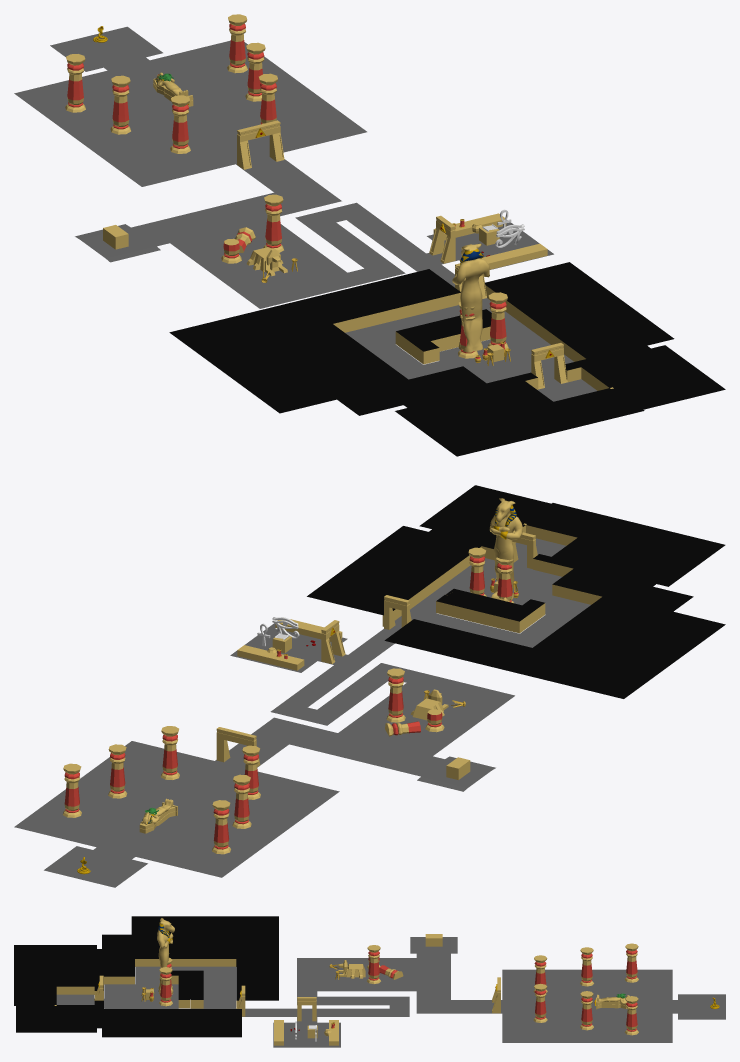
File: Environment_Test2.fbx
3 views of the same model, one above another, from view 1: azimuth 30°, elevation 25°; view 2: azimuth 150°, elevation 25°; view 3: azimuth 270°, elevation 25° (orthographic). The views are drawn at different scales.
Visible parts, largest first — view 1: Plane, Cube.005, Cube.006, sarcofago001.001, WallEntrance.003, WallEntrance, Pillar2.005, Pillar2.012, Pillar2.003, Pillar2.011, Pillar2.002, WallEntrance.002 (+5 smaller); view 2: Plane, Cube.005, Cube.006, sarcofago001.001, Cube.004, Pillar2.002, Pillar2.004, Pillar2.011, Pillar2.012, Pillar2.005, Pillar2.008, WallEntrance.003 (+5 smaller); view 3: Plane, Cube.005, Cube.006, sarcofago001.001, Pillar2.005, Pillar2.011, Pillar2.004, Pillar2, Pillar2.012, Pillar2.008, Pillar2.002, besouro (+6 smaller).
Part boxes in pixels (x1,y1,x2,y2): Plane: (14, 26, 596, 401); Cube.005: (169, 262, 725, 456); Cube.006: (395, 309, 491, 364); sarcofago001.001: (452, 243, 489, 352); WallEntrance.003: (237, 120, 284, 169); WallEntrance: (531, 343, 567, 389); Pillar2.005: (110, 75, 130, 134); Pillar2.012: (65, 54, 85, 112); Pillar2.003: (170, 95, 190, 153); Pillar2.011: (227, 14, 247, 73); Pillar2.002: (263, 194, 283, 252); WallEntrance.002: (429, 215, 455, 263); Plane: (14, 538, 590, 887); Cube.005: (307, 485, 725, 698); Cube.006: (436, 588, 545, 633); sarcofago001.001: (489, 498, 522, 601); Cube.004: (237, 645, 304, 670); Pillar2.002: (386, 668, 405, 722); Pillar2.004: (108, 744, 127, 798); Pillar2.011: (62, 763, 81, 817); Pillar2.012: (212, 800, 230, 854); Pillar2.005: (232, 774, 251, 828); Pillar2.008: (161, 726, 179, 779); WallEntrance.003: (216, 727, 260, 766); Plane: (56, 937, 725, 1047); Cube.005: (14, 916, 278, 1037); Cube.006: (170, 970, 203, 1008); sarcofago001.001: (157, 918, 174, 993); Pillar2.005: (580, 947, 593, 986); Pillar2.011: (624, 996, 638, 1035); Pillar2.004: (580, 991, 593, 1030); Pillar2: (159, 967, 172, 1006); Pillar2.012: (625, 943, 638, 982); Pillar2.008: (533, 983, 547, 1022); Pillar2.002: (367, 945, 380, 983); besouro: (594, 993, 629, 1009).
Bounding box in the file's own units: 994 × 294 × 2415.
